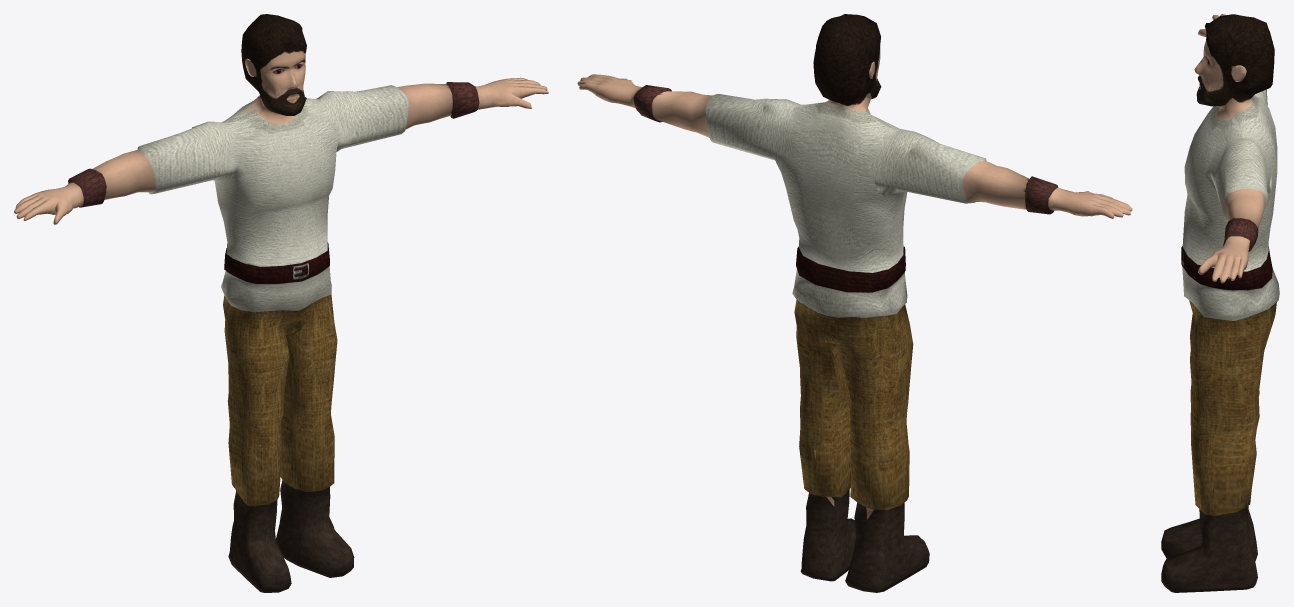
The model's file is new_lumberjack_export.dae.
3 views of the same model, side by side, from view 1: azimuth 30°, elevation 25°; view 2: azimuth 150°, elevation 25°; view 3: azimuth 270°, elevation 25° (orthographic). The views are drawn at different scales.
Parts seen in each view (by area): view 1: lumberJack; view 2: lumberJack; view 3: lumberJack.
Part boxes in pixels (x1,y1,x2,y2): lumberJack: (14, 14, 548, 592); lumberJack: (577, 14, 1132, 592); lumberJack: (1161, 14, 1279, 592).
Bounding box in the file's own units: 1.86 × 0.3512 × 1.81.
Materials: 1 (1 with a texture image).
